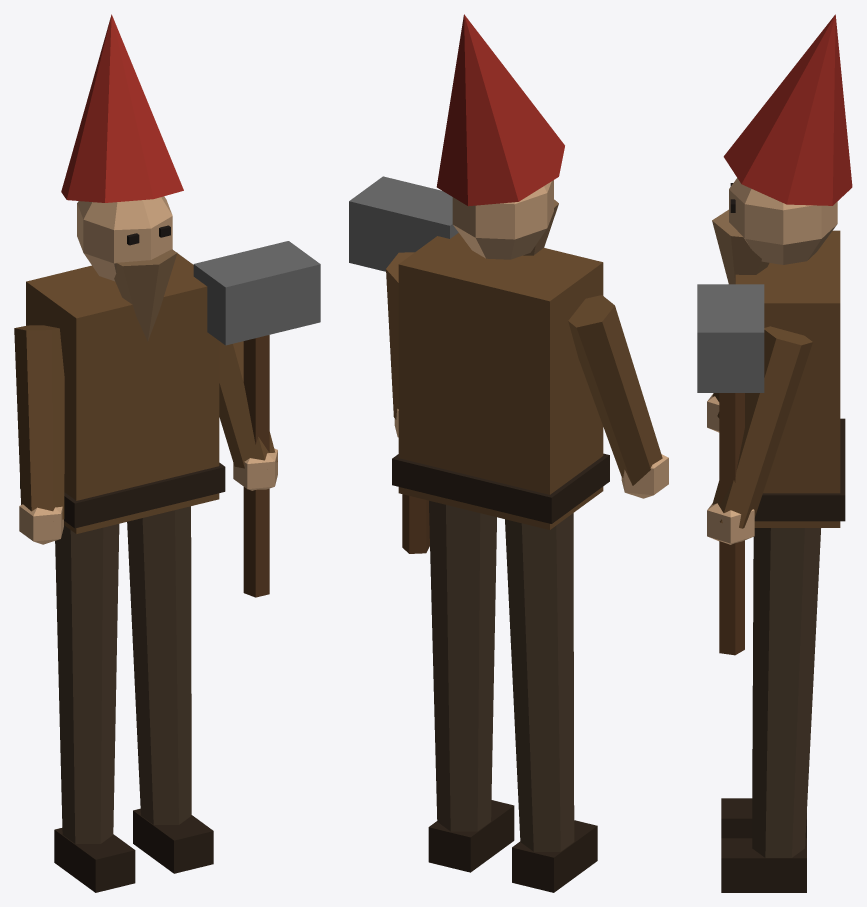
The model's file is lutki.glb.
The picture shows the model from 3 angles, left to right: view 1: azimuth 30°, elevation 25°; view 2: azimuth 150°, elevation 25°; view 3: azimuth 270°, elevation 25°; orthographic projection. The views are drawn at different scales.
Bounding box in the file's own units: 0.3863 × 1.09 × 0.179.
Materials: 1 (1 with a texture image).
